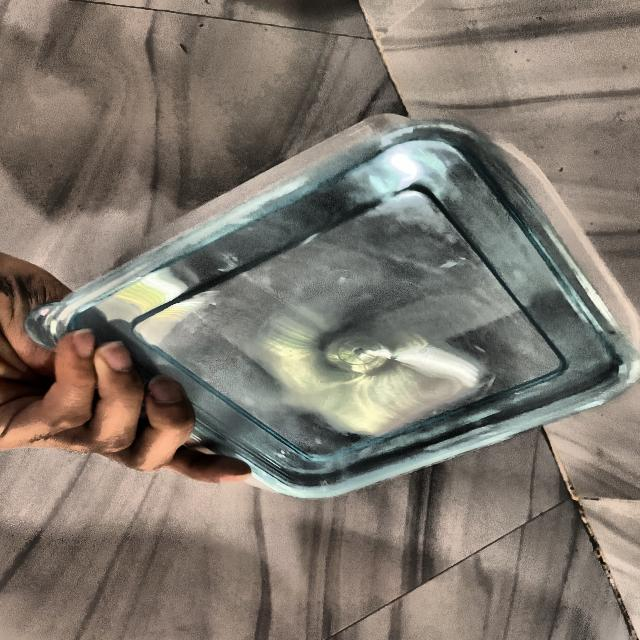plastic container: (72, 105, 586, 525)
